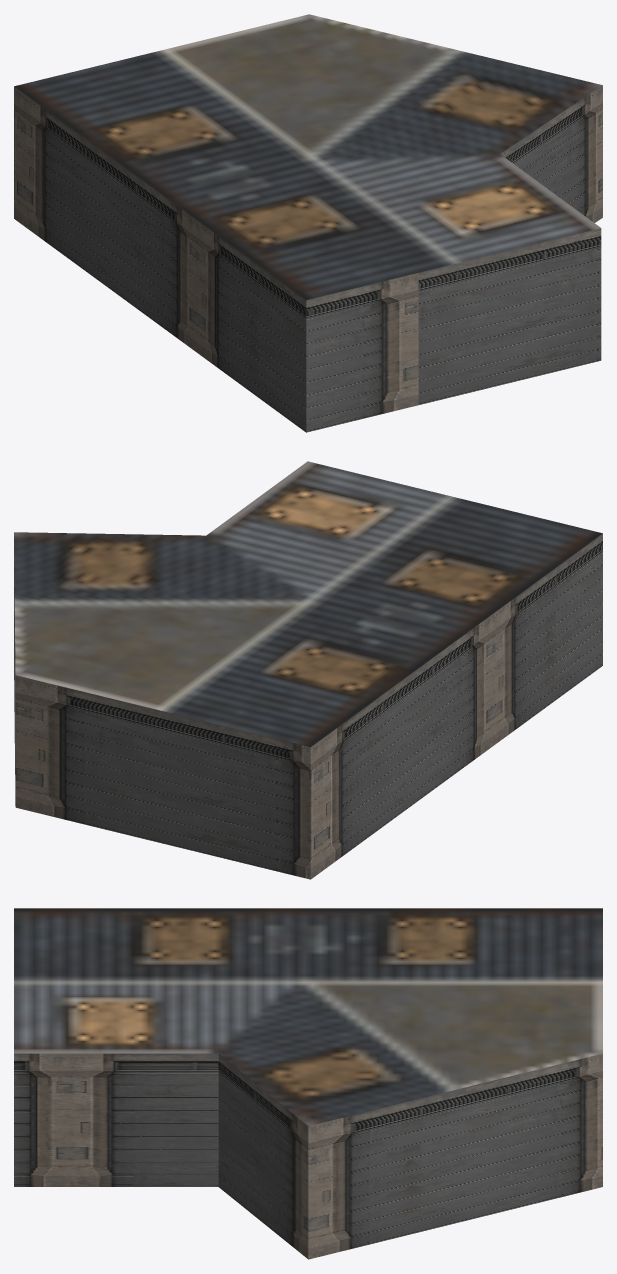
The model's file is hangar_light_a_11.glb.
3 renders of one model, top to bottom at view 1: azimuth 30°, elevation 25°; view 2: azimuth 150°, elevation 25°; view 3: azimuth 270°, elevation 25°, orthographic.
Visible parts, largest first — view 1: buildings/saxarba/hangar_light/hangar_light_a_11; view 2: buildings/saxarba/hangar_light/hangar_light_a_11; view 3: buildings/saxarba/hangar_light/hangar_light_a_11.
Boxes of the visible parts, box(x1,y1,x2,y2) form: buildings/saxarba/hangar_light/hangar_light_a_11: box(14, 14, 602, 432); buildings/saxarba/hangar_light/hangar_light_a_11: box(14, 461, 602, 879); buildings/saxarba/hangar_light/hangar_light_a_11: box(14, 908, 602, 1259).
Size of the model in its own units: 63 by 18 by 72.
